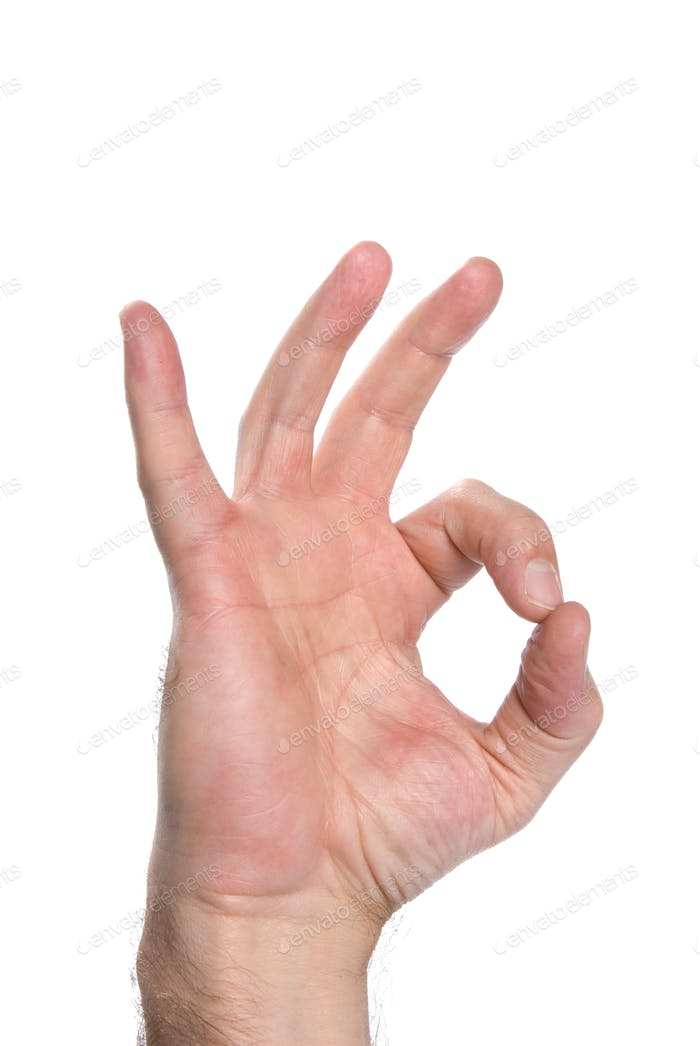oksign: (125, 247, 606, 893)
